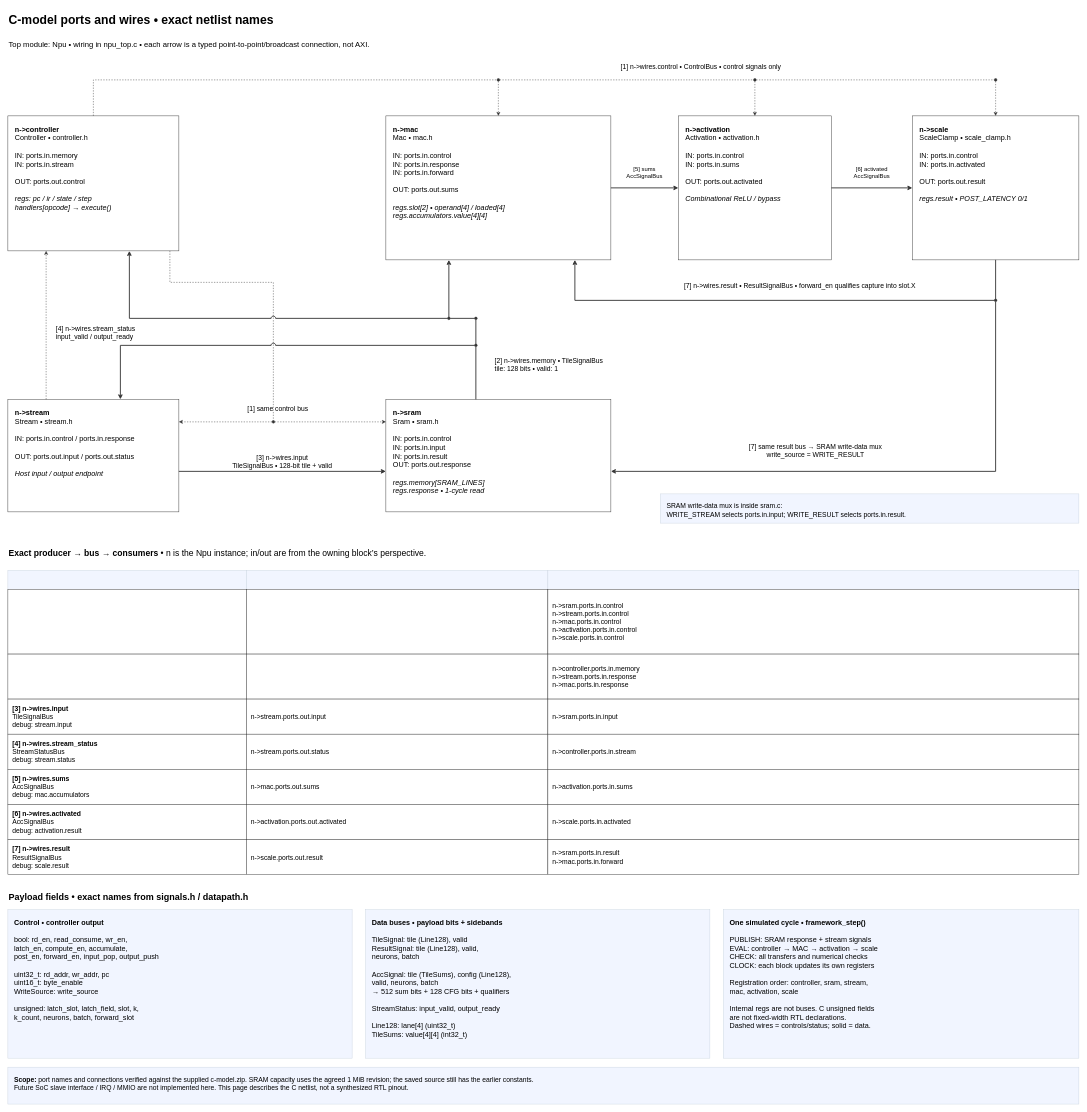
This 1087x1112 diagram has some shape labels left out. The shapes that lost their labels are listed below. From the top down, each one's box as (x1, y1, x2, y2) in pixels, then its label:
(7, 570, 246, 589): BUS INSTANCE / PAYLOAD TYPE
(246, 570, 548, 589): PRODUCER PORT
(547, 570, 1079, 589): CONSUMER PORTS
(7, 589, 246, 654): [1] n->wires.control ControlBus debug: controller.control
(246, 589, 548, 654): n->controller.ports.out.control
(7, 654, 246, 699): [2] n->wires.memory TileSignalBus debug: sram.response
(246, 654, 548, 699): n->sram.ports.out.response
